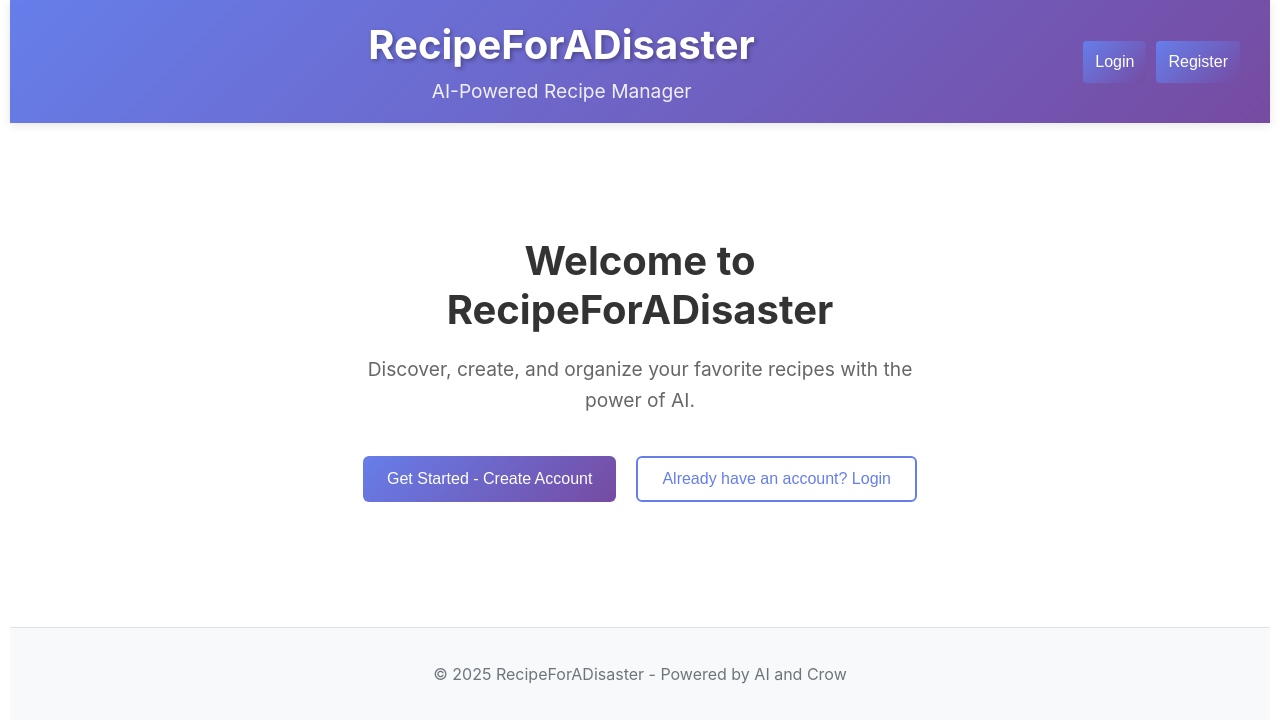
Test: Authentication Integration Tests › Complete Authentication Flow › allows switching between login and register forms
This screenshot has width=1280, height=720.
Expected: the heading "Welcome to RecipeForADisaster" is shown, [447, 236, 833, 334]
Note: Click login button
Click the button "Already have an account? Login". click: x=777, y=479
box: [636, 456, 917, 502]
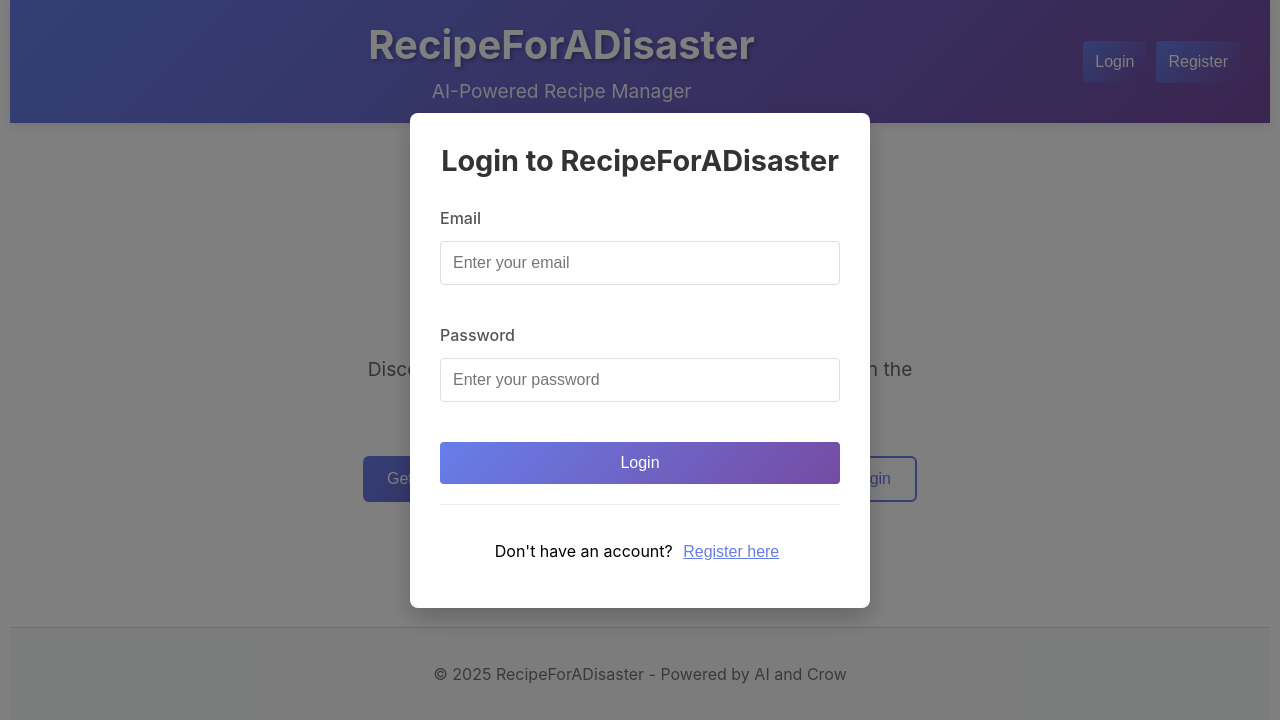
Now the heading "Login to RecipeForADisaster" is shown, box [440, 142, 840, 178]
Note: Click register link
Click the button "Register here". click: x=731, y=552
box: [677, 542, 785, 562]
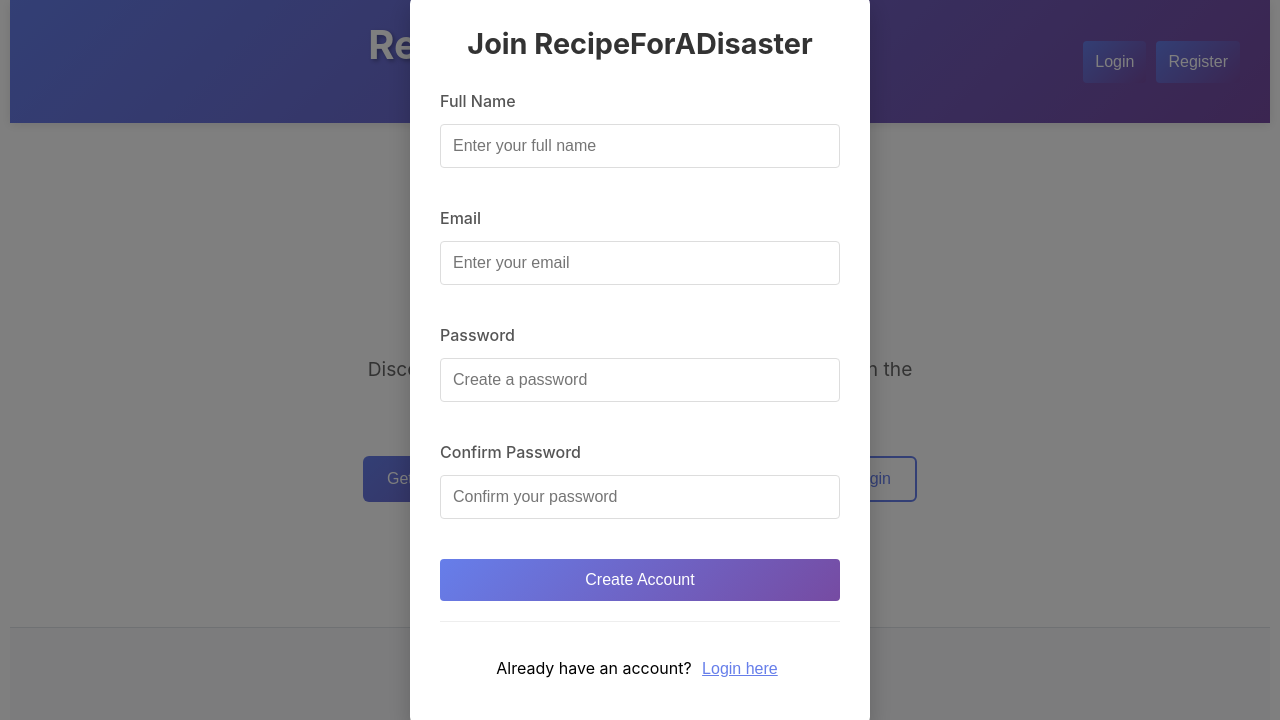
Now the heading "Join RecipeForADisaster" is shown, box [440, 26, 840, 60]
Note: Click login link
Click the button "Login here". click: x=740, y=668
box: [696, 658, 784, 678]
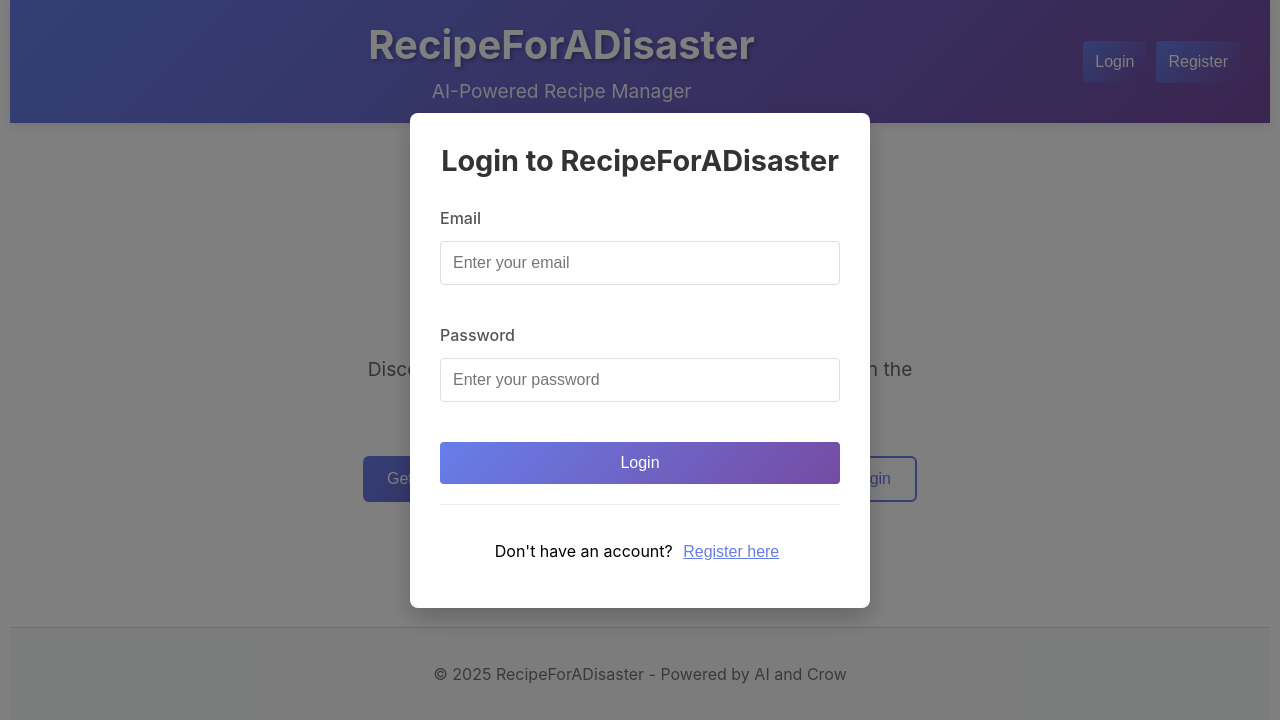
Now the heading "Login to RecipeForADisaster" is shown, box [440, 142, 840, 178]
